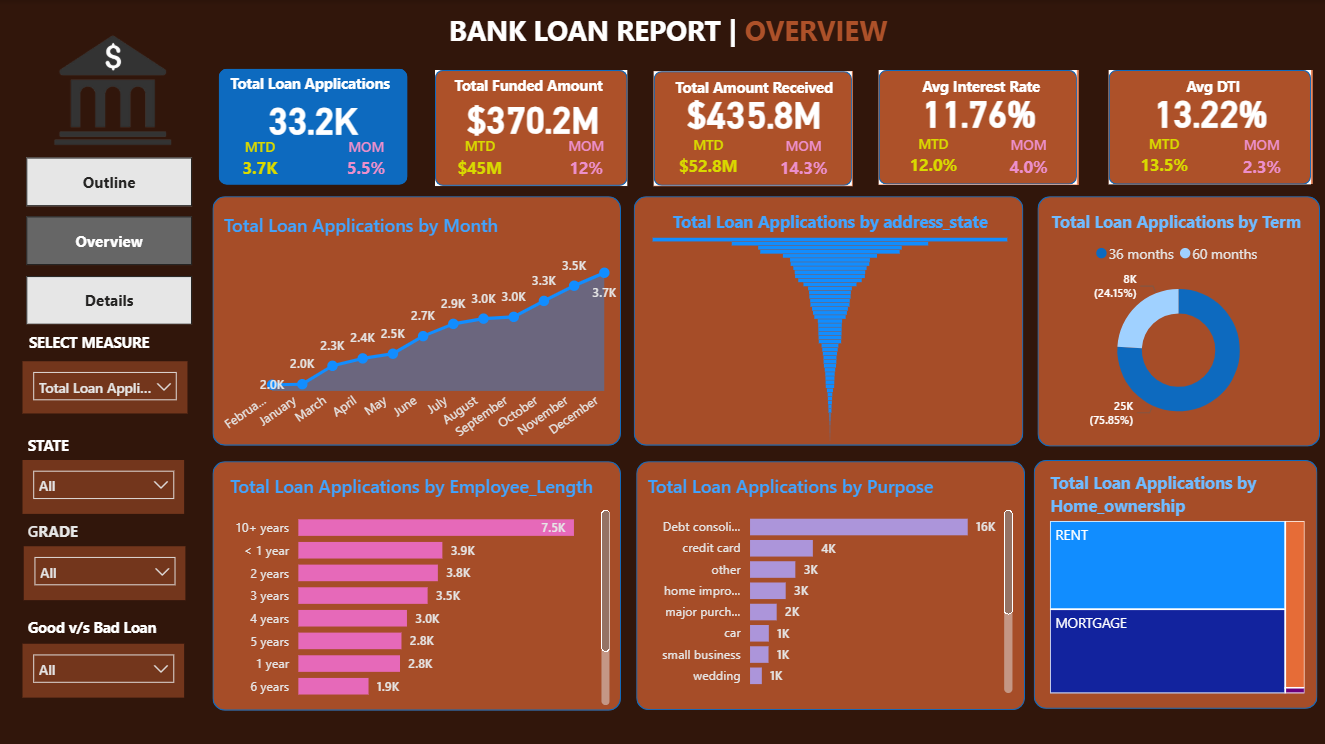

What the dashboard file says about the page in this screenshot:
{"tool":"powerbi","page":{"name":"Overview","canvas":[1280,720],"ordinal":1},"visuals":[{"type":"group","id":"g1","title":"Group 1","box":[210.8,66.4,184,112.5],"z":0,"group":"g6"},{"type":"shape","box":[210.8,67,182,111.9],"z":0,"group":"g1"},{"type":"shape","box":[1069.8,67.2,195.1,110.6],"z":0,"group":"g5"},{"type":"shape","box":[847.9,67.5,191.3,110.6],"z":0,"group":"g4"},{"type":"shape","box":[419.4,67.6,185.8,111.8],"z":0,"group":"g2"},{"type":"shape","box":[630.3,68.8,191.3,110.6],"z":0,"group":"g3"},{"type":"shape","box":[205.6,190,394.2,240.7],"z":0},{"type":"group","id":"g2","title":"Group 1","box":[419.2,67.5,186,111.9],"z":1000,"group":"g6"},{"type":"card","fields":{"Values":["bank_loan_data.Total Funded Amount"]},"box":[434.7,86.4,158.1,51.8],"z":1000,"group":"g2"},{"type":"card","fields":{"Values":["bank_loan_data.Avg DTI"]},"box":[1084.4,86.8,168.2,41.6],"z":1000,"group":"g5"},{"type":"card","fields":{"Values":["bank_loan_data.Total Amount received"]},"box":[862.2,87.1,164.9,41.6],"z":1000,"group":"g4"},{"type":"card","fields":{"Values":["bank_loan_data.Total Amount received"]},"box":[644.6,88.4,164.9,41.6],"z":1000,"group":"g3"},{"type":"card","fields":{"Values":["bank_loan_data.Total Loan Applications"]},"box":[222.9,89.6,158.3,49.4],"z":1000,"group":"g1"},{"type":"textbox","box":[22.1,415.5,156.3,31.3],"z":1000},{"type":"textbox","box":[216.6,66.4,178.2,37.7],"z":2000,"group":"g1"},{"type":"textbox","box":[419.2,67.5,180.5,45],"z":2000,"group":"g2"},{"type":"textbox","box":[1071.2,68,195.1,35.1],"z":2000,"group":"g5"},{"type":"textbox","box":[849.3,68.3,191.3,35.1],"z":2000,"group":"g4"},{"type":"group","id":"g3","title":"Group 1","box":[630.3,68.8,192.6,110.6],"z":2000,"group":"g6"},{"type":"textbox","box":[631.7,69.6,191.3,35.1],"z":2000,"group":"g3"},{"type":"textbox","box":[23.4,316.5,161.5,33.9],"z":2000},{"type":"slicer","fields":{"Values":["bank_loan_data.address_state"]},"box":[22.1,444.1,156.1,52],"z":2000,"group":"g7"},{"type":"group","id":"g4","title":"Group 1","box":[847.9,67.5,192.6,110.6],"z":3000,"group":"g6"},{"type":"card","title":"MTD ","fields":{"Values":["bank_loan_data.MTD DTI amount"]},"box":[1084.6,129.1,78,46.8],"z":3000,"group":"g5"},{"type":"card","title":"MTD ","fields":{"Values":["bank_loan_data.MTD avg amount"]},"box":[862.4,129.4,76.5,46.8],"z":3000,"group":"g4"},{"type":"card","title":"MTD ","fields":{"Values":["bank_loan_data.MTD total amount received"]},"box":[644.8,130.7,76.5,46.8],"z":3000,"group":"g3"},{"type":"card","title":"MTD ","fields":{"Values":["bank_loan_data.MTD Funded amount"]},"box":[434.7,131.4,55.3,47.7],"z":3000,"group":"g2"},{"type":"card","title":"MTD ","fields":{"Values":["bank_loan_data.MTD Loan Applications"]},"box":[222.9,132.5,55.4,45.5],"z":3000,"group":"g1"},{"type":"slicer","fields":{"Values":["bank_loan_data.grade"]},"box":[23.4,526.9,156.1,52],"z":3000},{"type":"group","id":"g5","title":"Group 1","box":[1069.8,67.2,196.5,110.6],"z":4000,"group":"g6"},{"type":"card","title":"MOM ","fields":{"Values":["bank_loan_data.MOM DTI Avg"]},"box":[1182.8,130.4,68.6,42.9],"z":4000,"group":"g5"},{"type":"card","title":"MOM ","fields":{"Values":["bank_loan_data.MOM Avg"]},"box":[958.7,130.7,67.3,42.9],"z":4000,"group":"g4"},{"type":"card","title":"MOM ","fields":{"Values":["bank_loan_data.MOM Funded"]},"box":[537.5,131.4,55.3,47.7],"z":4000,"group":"g2"},{"type":"card","title":"MOM ","fields":{"Values":["bank_loan_data.MOM total application"]},"box":[741.1,132,67.3,42.9],"z":4000,"group":"g3"},{"type":"card","title":"MOM ","fields":{"Values":["bank_loan_data.MOM Applications"]},"box":[325.8,132.5,55.4,45.5],"z":4000,"group":"g1"},{"type":"textbox","box":[22.1,590.7,161.3,31.2],"z":4000},{"type":"textbox","box":[428.1,6.5,443.7,48.1],"z":5000},{"type":"group","id":"g6","title":"Group 2","box":[210.8,66.4,1055.5,112.9],"z":6000},{"type":"group","id":"g7","title":"Group 4","box":[22.1,444.1,156.3,52.1],"z":7000},{"type":"textbox","box":[22.1,497,87.2,29.9],"z":8000},{"type":"slicer","fields":{"Values":["bank_loan_data.Good v/s bad Loan Status"]},"box":[22.1,621.9,156.1,52],"z":9000},{"type":"areaChart","fields":{"Y":["bank_loan_data.Total Loan Applications"],"Category":["Date Table.Month"]},"box":[210.8,205.6,389,239.4],"z":10000},{"type":"slicer","fields":{"Values":["Select Measure.Select Measure"]},"box":[22.1,349,158.9,50.8],"z":11000},{"type":"shape","box":[611.5,190,376,240.7],"z":12000},{"type":"funnel","fields":{"Y":["bank_loan_data.Total Loan Applications"],"Category":["bank_loan_data.address_state"]},"box":[620.7,202.6,362.3,228.5],"z":13000},{"type":"shape","box":[1001.1,189.6,272.7,241.5],"z":14000},{"type":"donutChart","fields":{"Y":["bank_loan_data.Total Loan Applications"],"Category":["bank_loan_data.term"]},"box":[1010.2,202.6,255.8,219.4],"z":15000},{"type":"shape","box":[205.6,445,394.2,240.7],"z":16000},{"type":"barChart","fields":{"Y":["bank_loan_data.Total Loan Applications"],"Category":["bank_loan_data.emp_length"]},"box":[216.8,457.1,376.5,228.5],"z":17000},{"type":"shape","box":[614.2,445.4,375.2,240.2],"z":18000},{"type":"barChart","fields":{"Y":["bank_loan_data.Total Loan Applications"],"Category":["bank_loan_data.purpose"]},"box":[620.7,457.1,362.3,216.8],"z":19000},{"type":"shape","box":[997.2,444.1,274,240.2],"z":20000},{"type":"treemap","fields":{"Values":["bank_loan_data.Total Loan Applications"],"Group":["bank_loan_data.home_ownership"]},"box":[1008.9,454.5,255.8,219.4],"z":21000},{"type":"pageNavigator","box":[24.7,152.4,160.2,161.5],"z":22000},{"type":"image","box":[20.8,0,177.1,174.5],"z":23000}]}

Visuals, with their boxes in screenshot pixels (x1, y1, x2, y2), scaled from the page's 1280x720 canvas onto the 1325x744 screenshot:
"Group 1" group: box=[218, 69, 409, 185]
shape: box=[218, 69, 407, 185]
shape: box=[1107, 69, 1309, 184]
shape: box=[878, 70, 1076, 184]
shape: box=[434, 70, 626, 185]
shape: box=[652, 71, 850, 185]
shape: box=[213, 196, 621, 445]
"Group 1" group: box=[434, 70, 626, 185]
card - bank_loan_data.Total Funded Amount: box=[450, 89, 614, 143]
card - bank_loan_data.Avg DTI: box=[1123, 90, 1297, 133]
card - bank_loan_data.Total Amount received: box=[893, 90, 1063, 133]
card - bank_loan_data.Total Amount received: box=[667, 91, 838, 134]
card - bank_loan_data.Total Loan Applications: box=[231, 93, 395, 144]
textbox: box=[23, 429, 185, 462]
textbox: box=[224, 69, 409, 108]
textbox: box=[434, 70, 621, 116]
textbox: box=[1109, 70, 1311, 107]
textbox: box=[879, 71, 1077, 107]
"Group 1" group: box=[652, 71, 852, 185]
textbox: box=[654, 72, 852, 108]
textbox: box=[24, 327, 191, 362]
slicer - bank_loan_data.address_state: box=[23, 459, 184, 513]
"Group 1" group: box=[878, 70, 1077, 184]
"MTD " card: box=[1123, 133, 1203, 182]
"MTD " card: box=[893, 134, 972, 182]
"MTD " card: box=[667, 135, 747, 183]
"MTD " card: box=[450, 136, 507, 185]
"MTD " card: box=[231, 137, 288, 184]
slicer - bank_loan_data.grade: box=[24, 544, 186, 598]
"Group 1" group: box=[1107, 69, 1311, 184]
"MOM " card: box=[1224, 135, 1295, 179]
"MOM " card: box=[992, 135, 1062, 179]
"MOM " card: box=[556, 136, 614, 185]
"MOM " card: box=[767, 136, 837, 181]
"MOM " card: box=[337, 137, 395, 184]
textbox: box=[23, 610, 190, 643]
textbox: box=[443, 7, 902, 56]
"Group 2" group: box=[218, 69, 1311, 185]
"Group 4" group: box=[23, 459, 185, 513]
textbox: box=[23, 514, 113, 544]
slicer - bank_loan_data.Good v/s bad Loan Status: box=[23, 643, 184, 696]
areaChart - bank_loan_data.Total Loan Applications x Date Table.Month: box=[218, 212, 621, 460]
slicer - Select Measure.Select Measure: box=[23, 361, 187, 413]
shape: box=[633, 196, 1022, 445]
funnel - bank_loan_data.Total Loan Applications x bank_loan_data.address_state: box=[643, 209, 1018, 445]
shape: box=[1036, 196, 1319, 445]
donutChart - bank_loan_data.Total Loan Applications x bank_loan_data.term: box=[1046, 209, 1311, 436]
shape: box=[213, 460, 621, 709]
barChart - bank_loan_data.Total Loan Applications x bank_loan_data.emp_length: box=[224, 472, 614, 708]
shape: box=[636, 460, 1024, 708]
barChart - bank_loan_data.Total Loan Applications x bank_loan_data.purpose: box=[643, 472, 1018, 696]
shape: box=[1032, 459, 1316, 707]
treemap - bank_loan_data.Total Loan Applications x bank_loan_data.home_ownership: box=[1044, 470, 1309, 696]
pageNavigator: box=[26, 157, 191, 324]
image: box=[22, 0, 205, 180]
